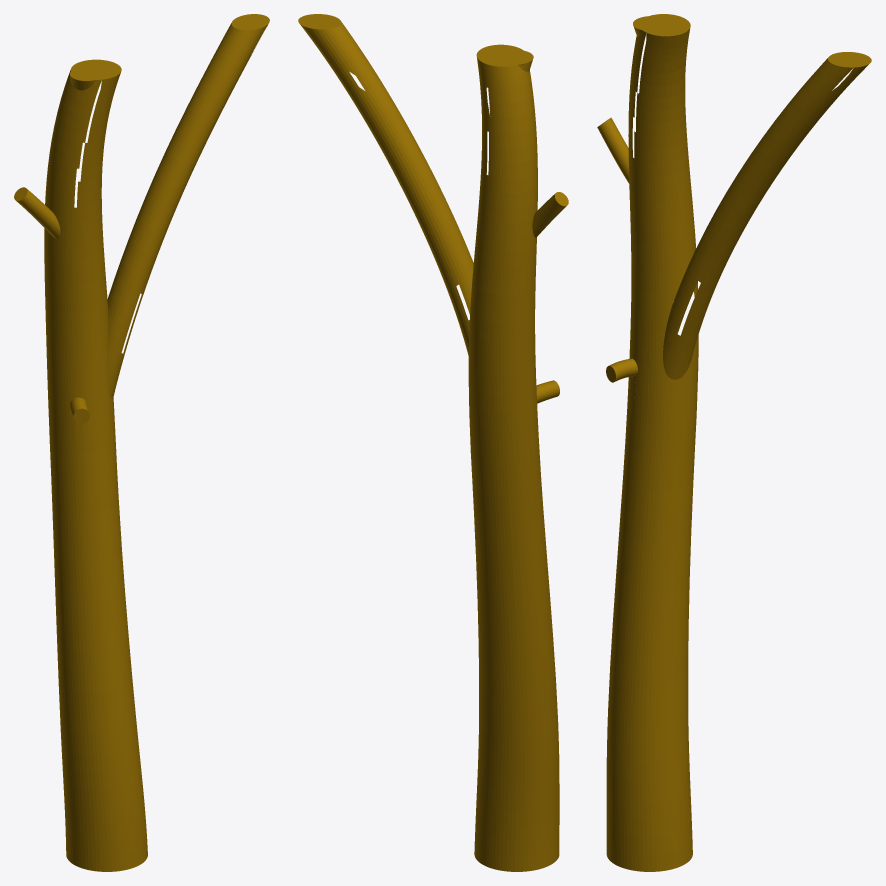
The model's file is 5_decorative.glb.
3 views of the same model, side by side, from view 1: azimuth 30°, elevation 25°; view 2: azimuth 150°, elevation 25°; view 3: azimuth 330°, elevation 25° (orthographic). The views are drawn at different scales.
Visible parts, largest first — view 1: skp440B; view 2: skp440B; view 3: skp440B.
Part boxes in pixels (box(x1,y1,x2,y2)): skp440B: box(14, 14, 269, 871); skp440B: box(298, 14, 568, 871); skp440B: box(597, 14, 871, 871).
Bounding box in the file's own units: 1.26 × 3.66 × 0.4974.
